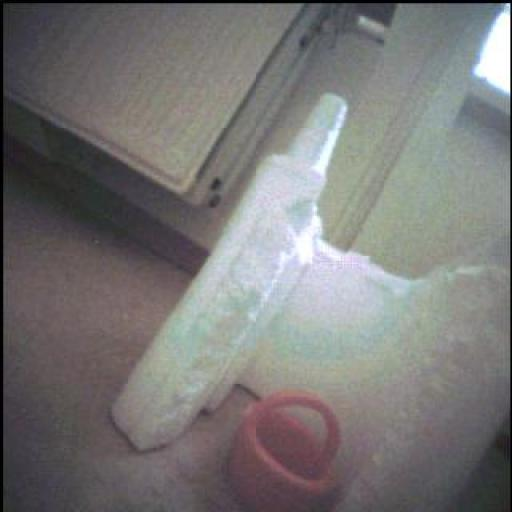Basket: (230, 393, 342, 512)
